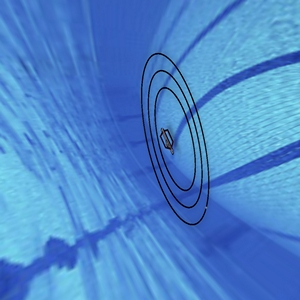circle: (120, 45, 232, 245)
submarine: (154, 122, 181, 160)
